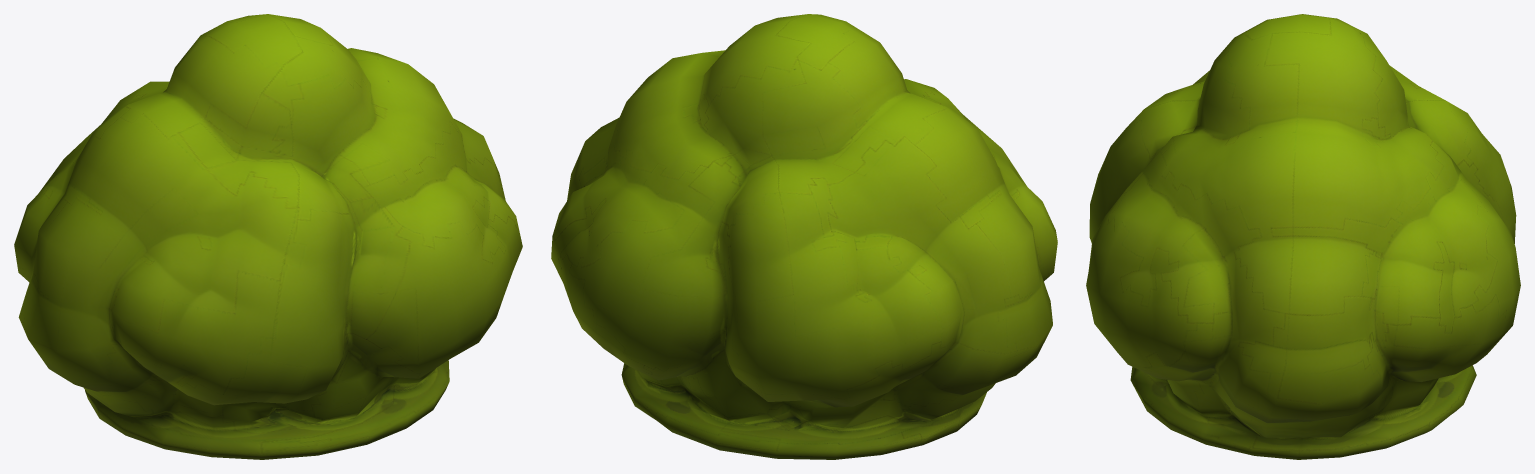
File: Arbusto.fbx
The picture shows the model from 3 angles, left to right: view 1: azimuth 30°, elevation 25°; view 2: azimuth 150°, elevation 25°; view 3: azimuth 270°, elevation 25°; orthographic projection.
Parts seen in each view (by area): view 1: Retopo_Arbusto_High; view 2: Retopo_Arbusto_High; view 3: Retopo_Arbusto_High.
Boxes of the visible parts, x1,y1,x2,y2 form: Retopo_Arbusto_High: [14, 14, 522, 459]; Retopo_Arbusto_High: [551, 14, 1057, 459]; Retopo_Arbusto_High: [1086, 14, 1520, 459].
Bounding box in the file's own units: 115 × 88.1 × 93.19.
Materials: 1 (1 with a texture image).
